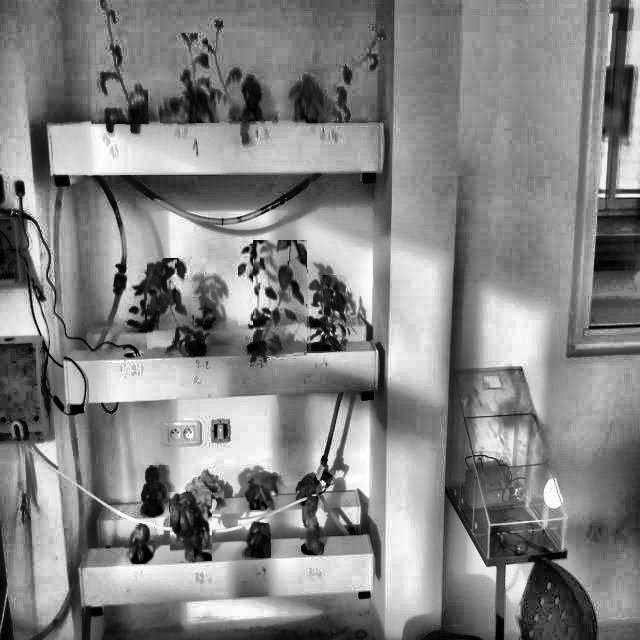plants: (306, 27, 386, 123), (91, 0, 148, 124), (207, 24, 277, 121), (253, 240, 307, 358), (147, 258, 205, 356), (160, 33, 219, 123), (304, 275, 346, 351), (170, 492, 212, 561), (238, 244, 270, 326), (127, 274, 165, 332), (139, 465, 169, 515), (301, 496, 324, 555), (125, 522, 155, 564), (246, 471, 278, 510), (242, 523, 271, 558), (193, 300, 216, 326)
